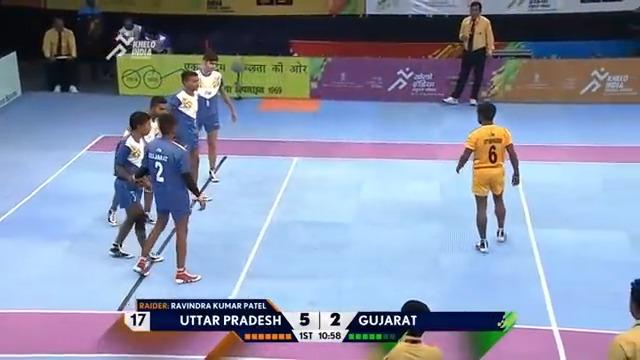Player: (131, 112, 208, 284), (107, 110, 164, 262), (191, 50, 237, 182), (162, 70, 204, 203), (382, 299, 443, 359), (606, 277, 639, 359)
Raider: (455, 100, 520, 253)
referee: (441, 0, 495, 105), (73, 0, 107, 84)
